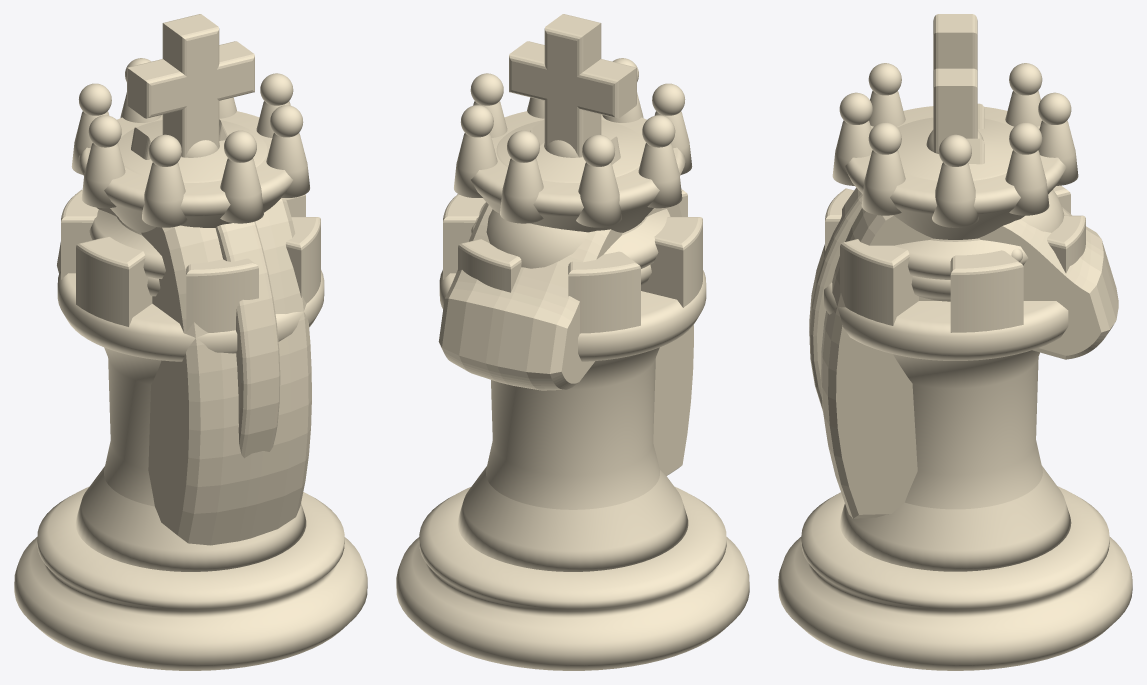
File: three-original.glb
3 renders of one model, left to right at view 1: azimuth 30°, elevation 25°; view 2: azimuth 150°, elevation 25°; view 3: azimuth 270°, elevation 25°, orthographic.
Visible parts, largest first — view 1: white_king_sculpture, white_knight_sculpture, white_rook_sculpture, white_queen_sculpture; view 2: white_king_sculpture, white_rook_sculpture, white_knight_sculpture, white_queen_sculpture; view 3: white_king_sculpture, white_rook_sculpture, white_knight_sculpture, white_queen_sculpture.
Boxes of the visible parts, x1,y1,x2,y2 form: white_king_sculpture: [14, 14, 367, 670]; white_knight_sculpture: [57, 119, 311, 545]; white_rook_sculpture: [57, 189, 324, 506]; white_queen_sculpture: [71, 58, 309, 296]; white_king_sculpture: [396, 14, 749, 670]; white_rook_sculpture: [439, 189, 706, 509]; white_knight_sculpture: [438, 119, 693, 475]; white_queen_sculpture: [454, 58, 692, 285]; white_king_sculpture: [778, 14, 1132, 670]; white_rook_sculpture: [824, 185, 1085, 509]; white_knight_sculpture: [809, 103, 1118, 518]; white_queen_sculpture: [832, 63, 1078, 301].
Size of the model in its own units: 0.66 by 1.2 by 0.66.
